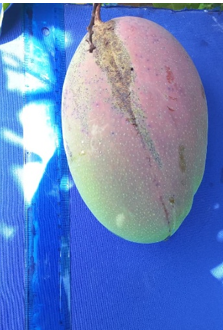Mango-Antracnosis: (62, 17, 206, 242)
Mango-area-afectada: (86, 4, 161, 167)
Mango-sano: (62, 16, 207, 243)
